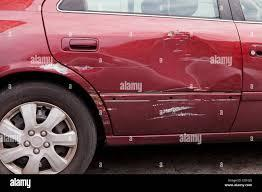dent: (92, 27, 248, 93)
scratch: (29, 57, 223, 126), (154, 23, 214, 62)
